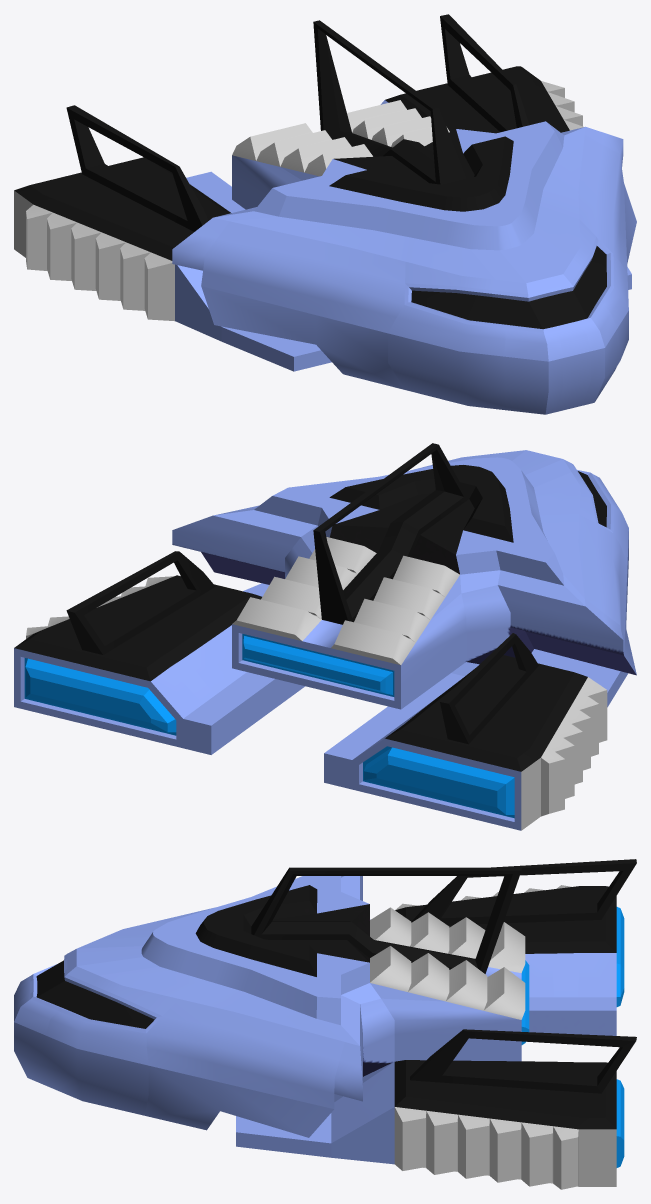
The model's file is HyperspeedShip.fbx.
The picture shows the model from 3 angles, top to bottom: view 1: azimuth 30°, elevation 25°; view 2: azimuth 150°, elevation 25°; view 3: azimuth 270°, elevation 25°; orthographic projection. The views are drawn at different scales.
Visible parts, largest first — view 1: Cabin, Engine2, Engine1; view 2: Cabin, Engine2, Engine1; view 3: Cabin, Engine1, Engine2.
Part boxes in pixels (<box>): Cabin: <box>172,20,636,414</box>; Engine2: <box>14,105,331,371</box>; Engine1: <box>380,14,631,289</box>; Cabin: <box>172,443,636,709</box>; Engine2: <box>324,633,631,830</box>; Engine1: <box>14,551,304,754</box>; Cabin: <box>14,867,529,1137</box>; Engine1: <box>236,1029,636,1189</box>; Engine2: <box>395,859,636,1035</box>.
Bounding box in the file's own units: 1.95 × 0.7001 × 2.01.
